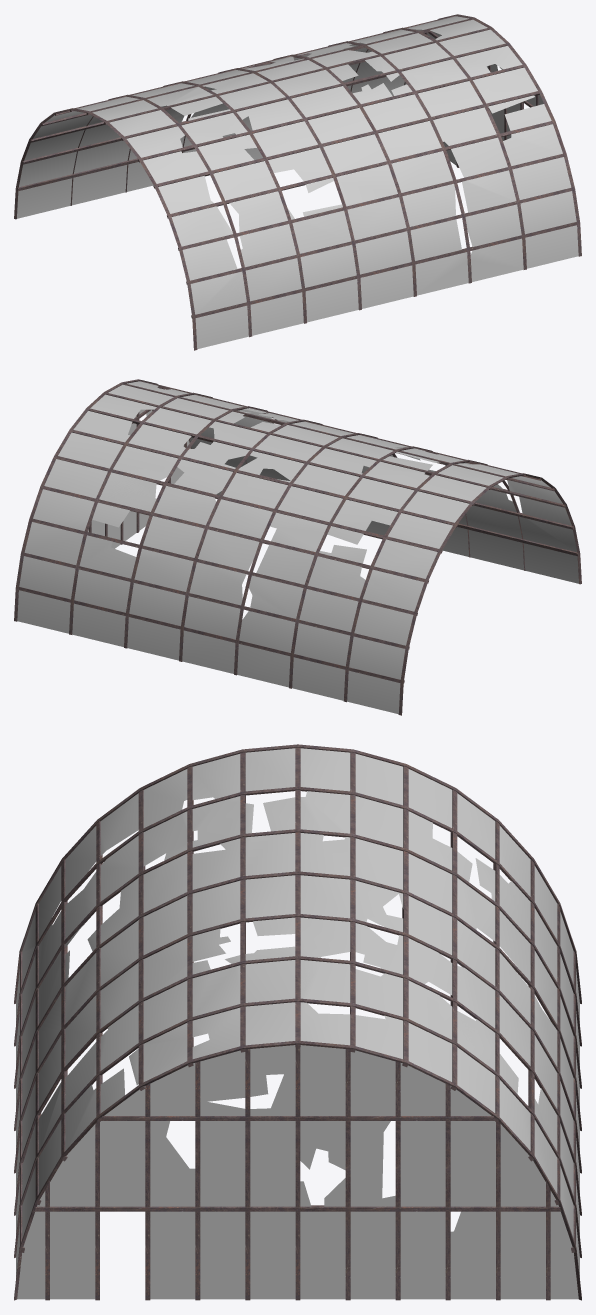
The model's file is Hangar1_LOD1.fbx.
The picture shows the model from 3 angles, top to bottom: view 1: azimuth 30°, elevation 25°; view 2: azimuth 150°, elevation 25°; view 3: azimuth 270°, elevation 25°; orthographic projection. The views are drawn at different scales.
Parts seen in each view (by area): view 1: polySurface80; view 2: polySurface80; view 3: polySurface80.
Part boxes in pixels (x1,y1,x2,y2): polySurface80: (14,14,581,350); polySurface80: (14,379,581,715); polySurface80: (14,744,581,1300).
Bounding box in the file's own units: 14.13 × 5.68 × 11.34.
